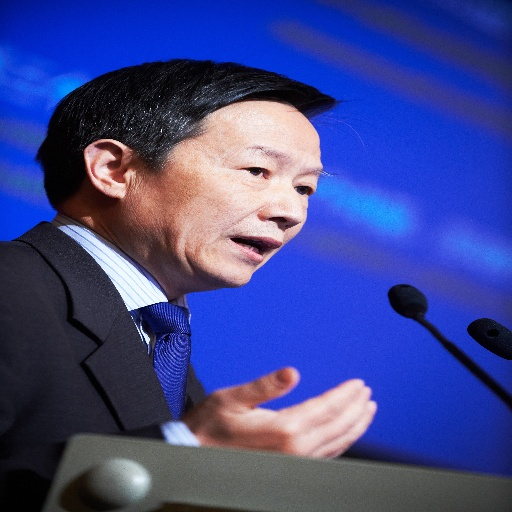hand: (148, 372, 396, 465)
